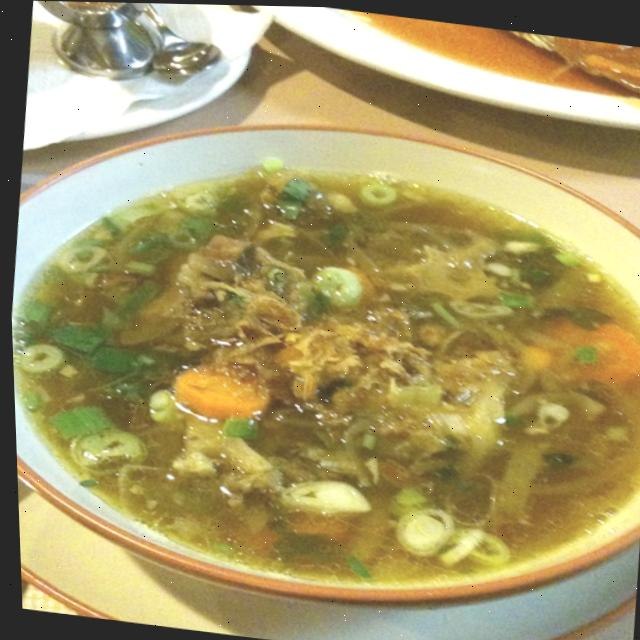汤锅炖物: (2, 59, 640, 640)
